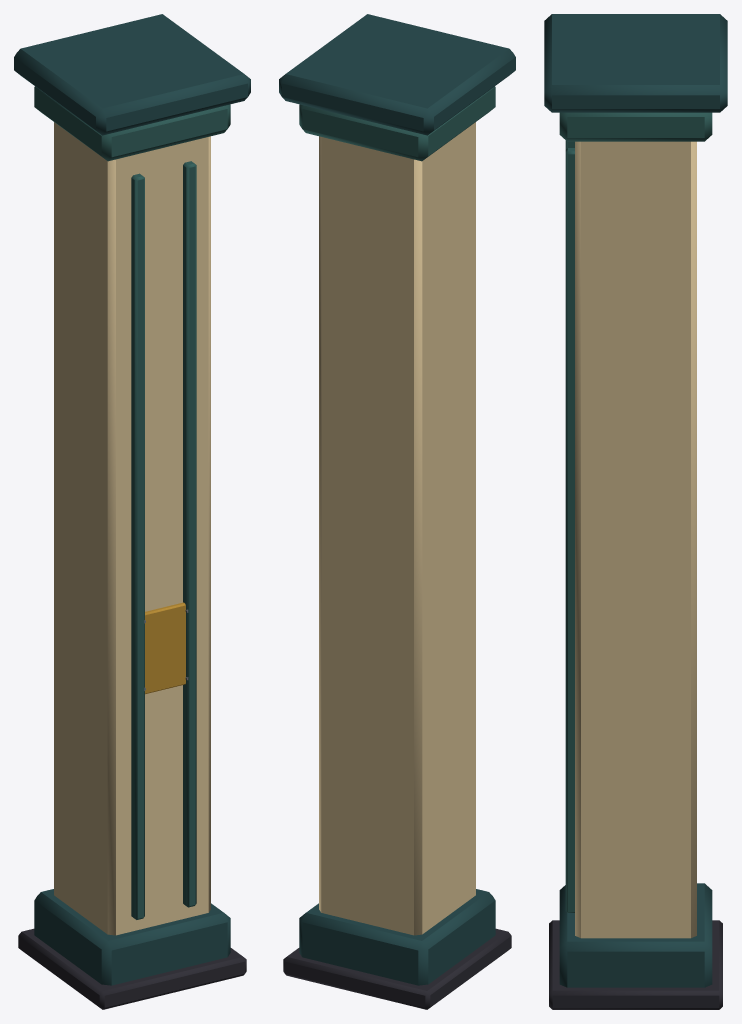
Rendered from column.glb.
3 views of the same model, side by side, from view 1: azimuth 30°, elevation 25°; view 2: azimuth 150°, elevation 25°; view 3: azimuth 270°, elevation 25° (orthographic). The views are drawn at different scales.
Visible parts, largest first — view 1: column; view 2: column; view 3: column.
Boxes of the visible parts, x1=… form: column: x1=14, y1=14, x2=250, y2=1009; column: x1=279, y1=14, x2=515, y2=1009; column: x1=544, y1=14, x2=727, y2=1009.
Bounding box in the file's own units: 1.2 × 6.68 × 1.2.
